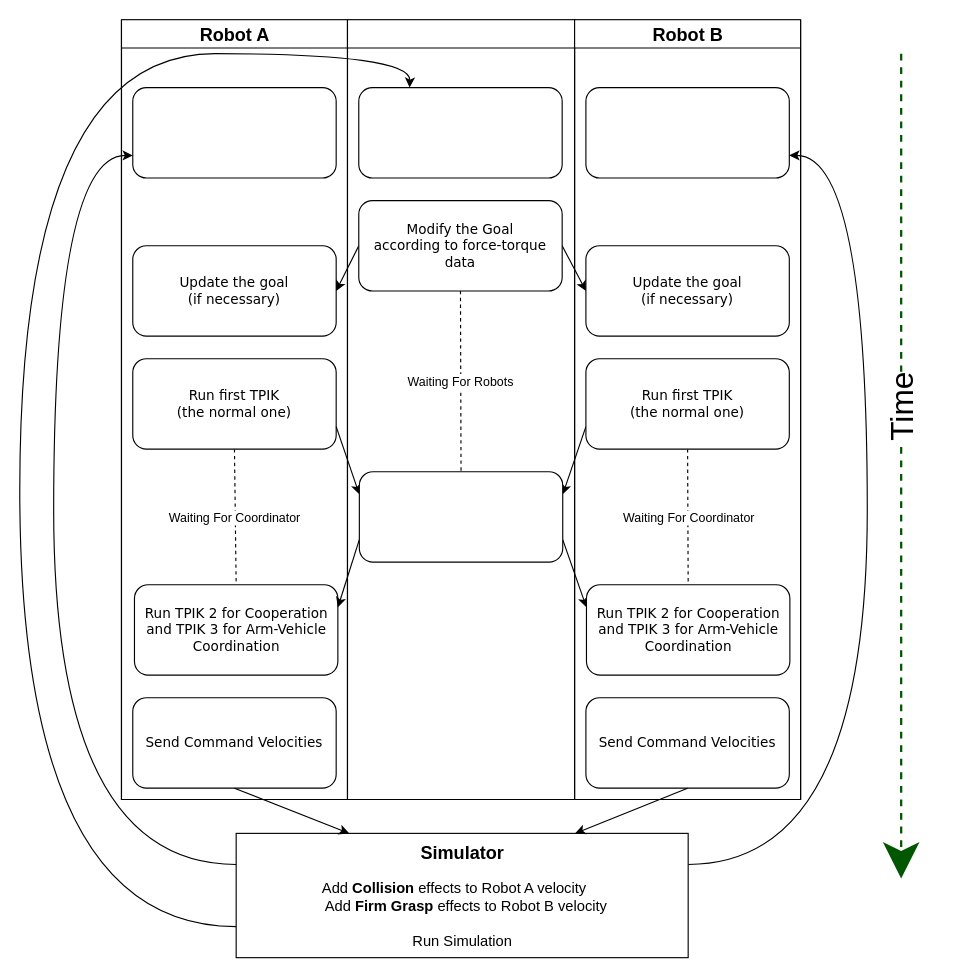
Some shapes in this 954 by 977 pixel diagram are drawn without their labels. Here are the shapes that lost their labels. From the top down, the box of each, then its label:
(132, 86, 336, 178): Get Robot A State Get World Informaton
(358, 86, 562, 178): Get Robot Force-Torque Information (to modify Goal) Get World Informaton
(585, 86, 789, 178): Get Robot B State Get World Informaton
(346, 19, 575, 799): Coordinator
(358, 471, 563, 562): Compute cooperation formulas Send cooperative velocities to robots
